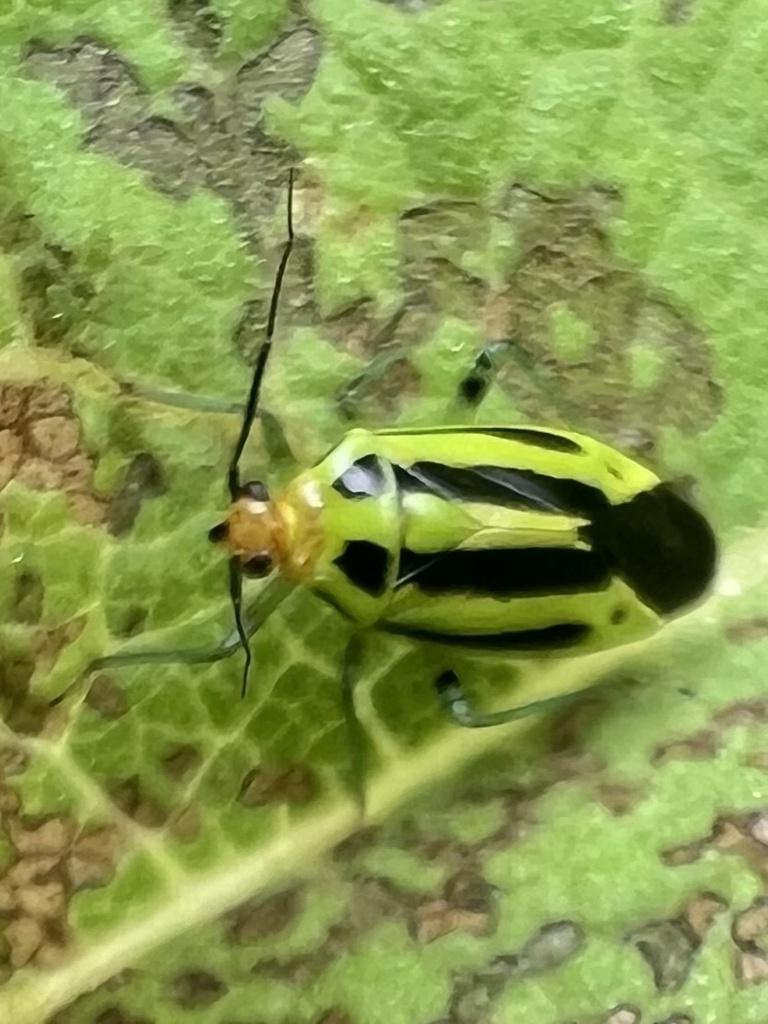plant_bugs: (0, 131, 768, 826)
